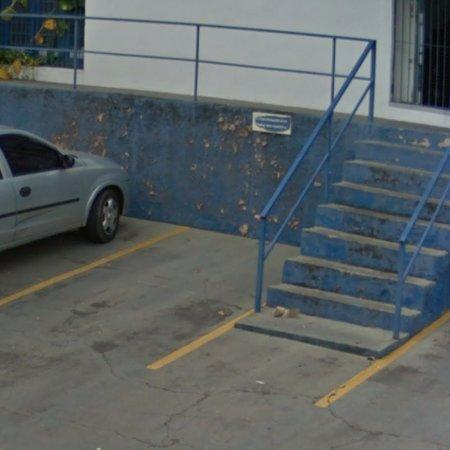stairs: (264, 133, 450, 357)
